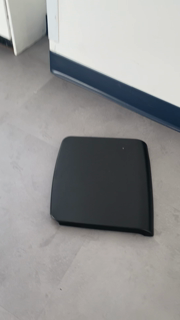Seat: (49, 133, 158, 241)
